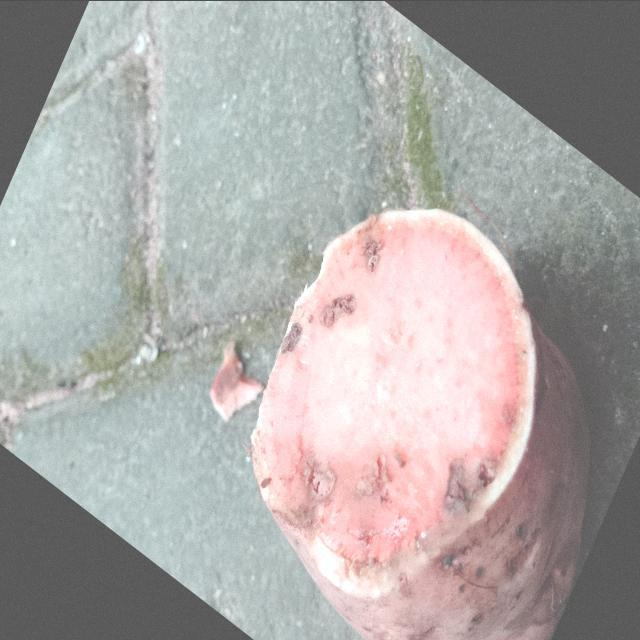Sick Sweet Potato_Tuber Rot: (251, 210, 531, 595)
